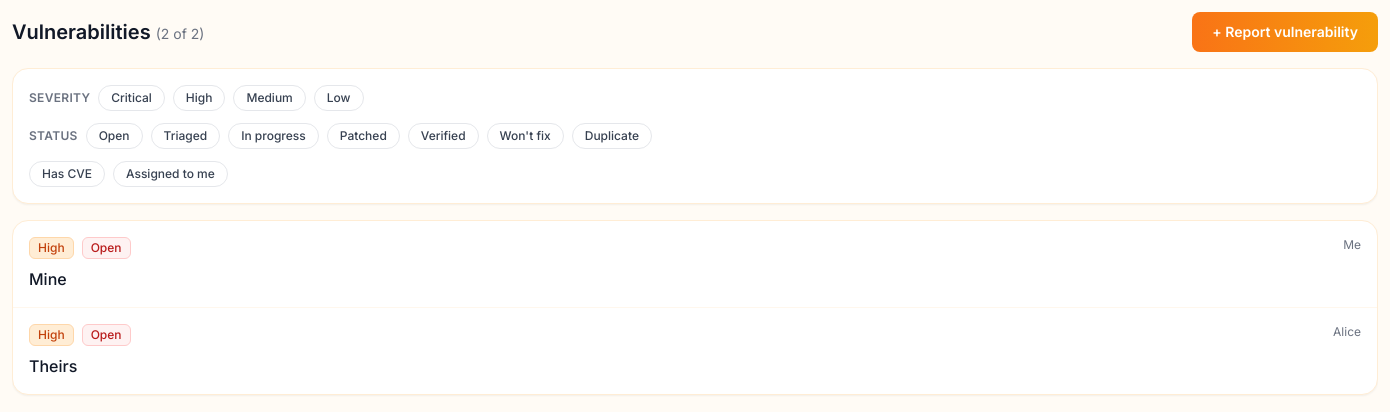
Scenario: VulnerabilitiesList › toggles assigned-to-me filter
Step 1. Click the button "Assigned to me" → (170, 174), box [113,161,228,187]
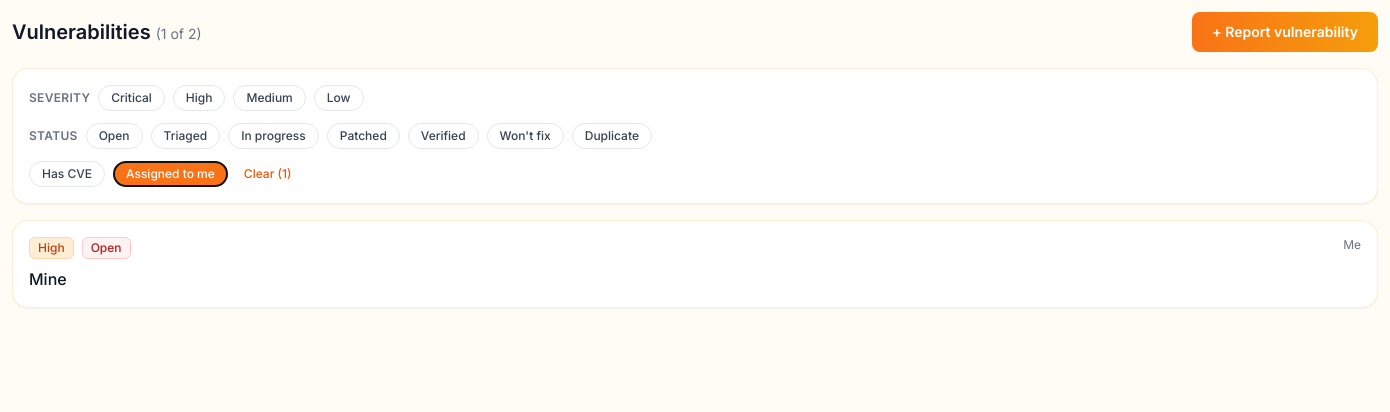
Expected: the text "Mine" is shown, [29,269,67,289]
Expected: the link "Theirs" is gone
